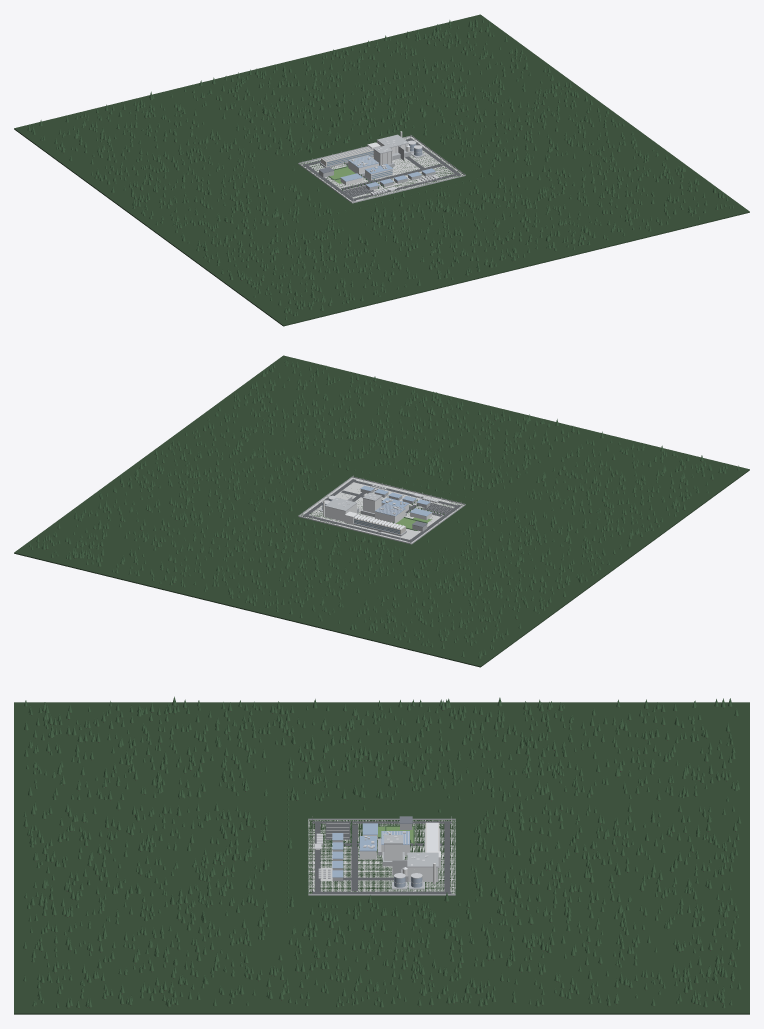
File: plant_site.glb
The picture shows the model from 3 angles, top to bottom: view 1: azimuth 30°, elevation 25°; view 2: azimuth 150°, elevation 25°; view 3: azimuth 270°, elevation 25°; orthographic projection. The views are drawn at different scales.
Visible parts, largest first — view 1: plant_site; view 2: plant_site; view 3: plant_site.
Part boxes in pixels (bbox=[...]): plant_site: bbox=[14, 14, 749, 326]; plant_site: bbox=[14, 355, 749, 667]; plant_site: bbox=[14, 696, 749, 1014].
Size of the model in its own units: 1400 by 49.55 by 1400.
